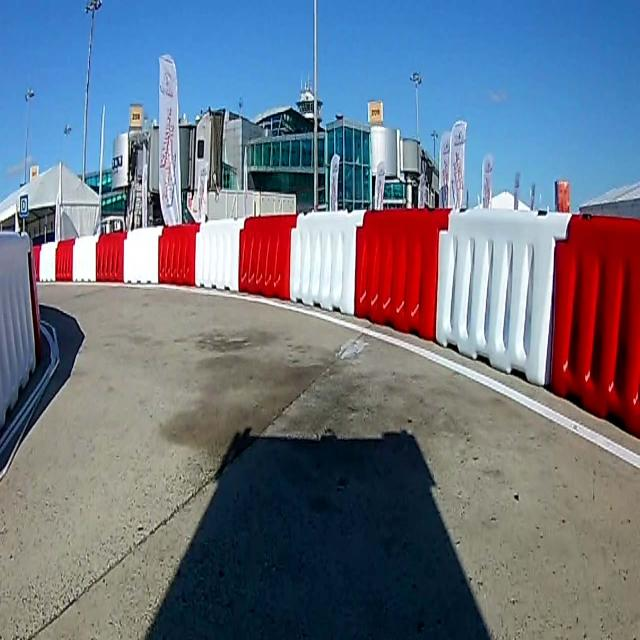durak: (20, 193, 28, 218)
